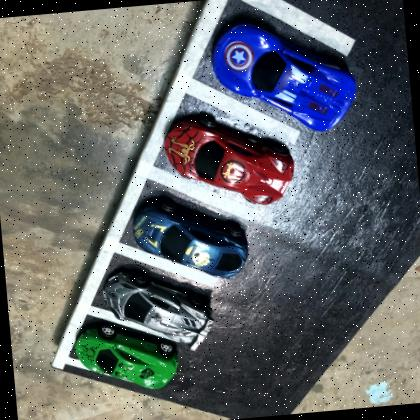Car: (208, 11, 359, 140), (162, 110, 297, 214), (130, 194, 250, 288), (100, 263, 216, 359), (73, 320, 181, 396)
